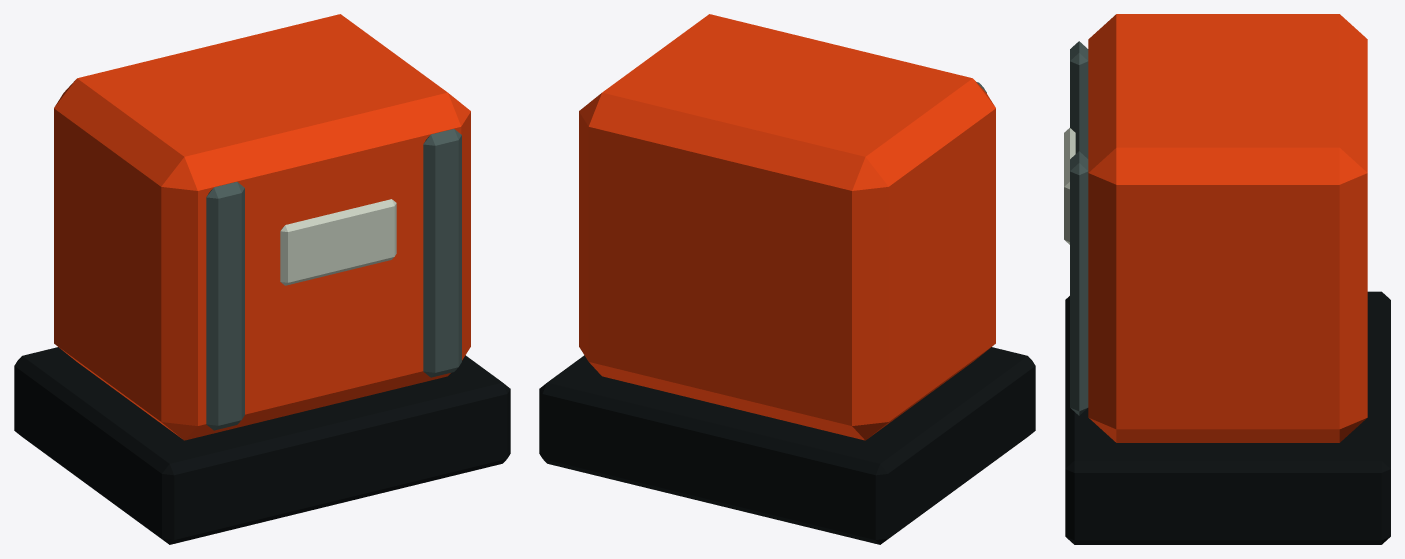
Rendered from SM_MP_Cargo_Crate.fbx.
3 renders of one model, left to right at view 1: azimuth 30°, elevation 25°; view 2: azimuth 150°, elevation 25°; view 3: azimuth 270°, elevation 25°, orthographic. The views are drawn at different scales.
Visible parts, largest first — view 1: SM_MP_Cargo_Crate; view 2: SM_MP_Cargo_Crate; view 3: SM_MP_Cargo_Crate.
Part boxes in pixels (box(x1,y1,x2,y2)): SM_MP_Cargo_Crate: box(14, 14, 510, 544); SM_MP_Cargo_Crate: box(539, 14, 1035, 544); SM_MP_Cargo_Crate: box(1064, 14, 1390, 544).
Size of the model in its own units: 90 by 70.25 by 90.
1 material, 1 textured.
